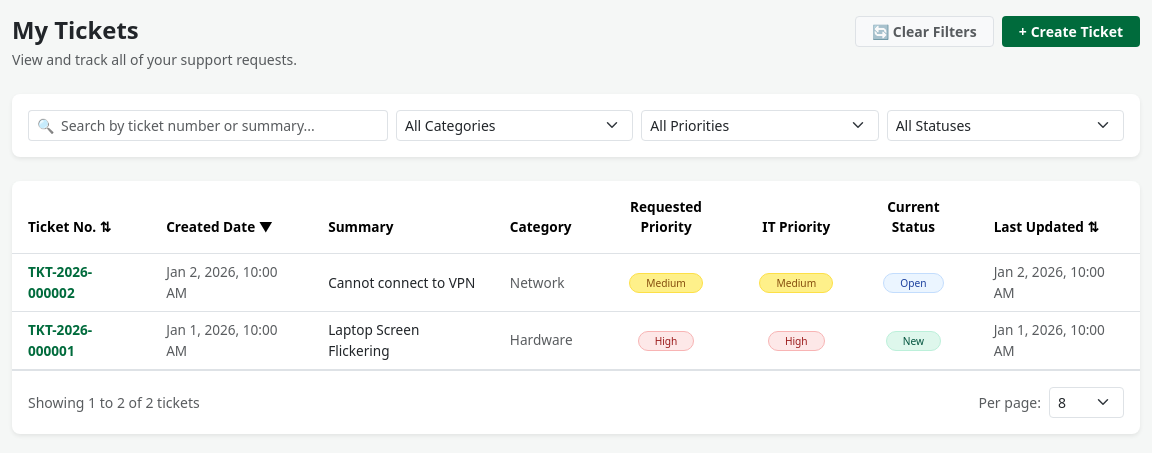
Scenario: TicketListPage (My Tickets) Component › filters by category via a backend request rather than a hardcoded option list
Expected: the link "TKT-2026-000001" is shown, [28,320,92,360]
Select "Network" in the 1st dropdown showing "All Categories". click: (515, 125)
box: [396,110,633,141]
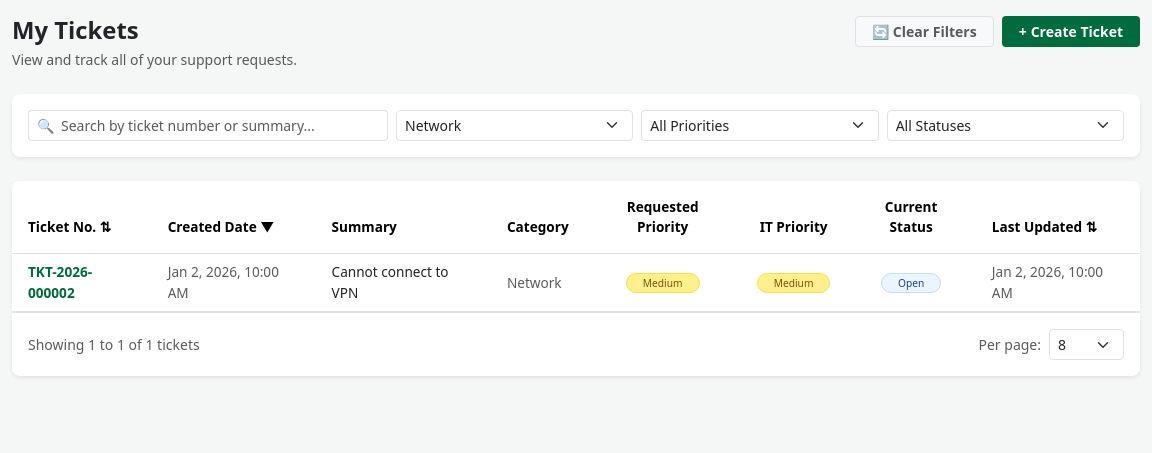
Expected: the link "TKT-2026-000002" is shown, [28,262,92,302]
Expected: the link "TKT-2026-000001" is gone
